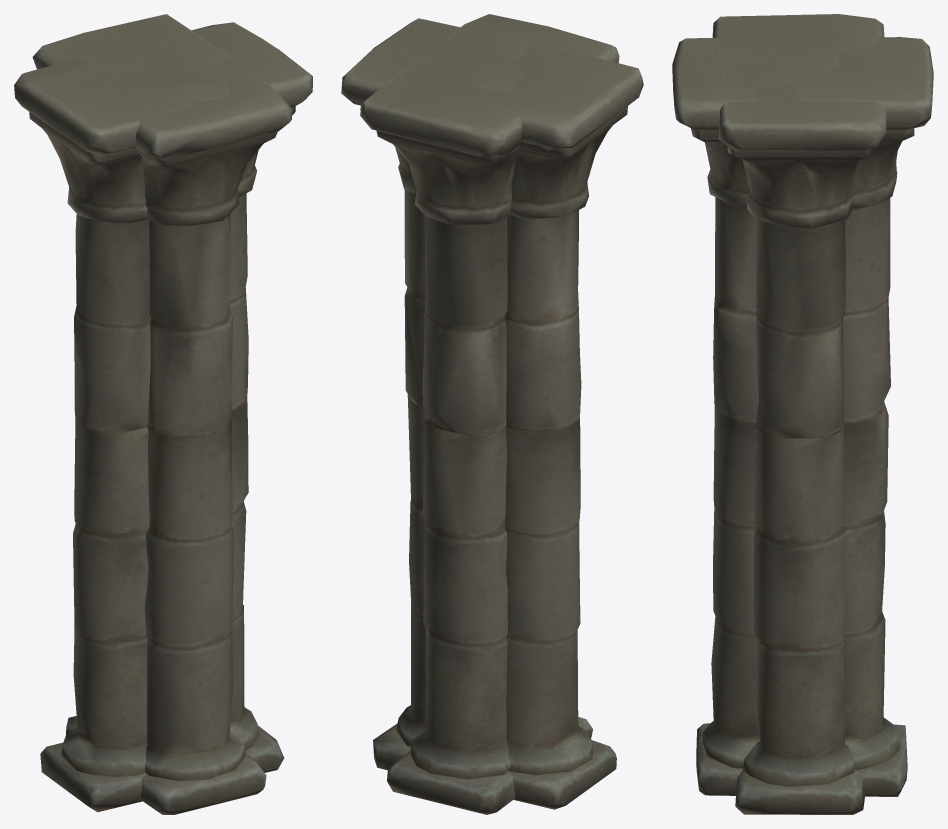
Rendered from SM_FW01_Ruins_Int_Pillar_D_1x6_02.fbx.
3 renders of one model, left to right at view 1: azimuth 30°, elevation 25°; view 2: azimuth 150°, elevation 25°; view 3: azimuth 270°, elevation 25°, orthographic.
Parts seen in each view (by area): view 1: SM_FW01_Ruins_Int_Pillar_D_1x6_02_LOD0; view 2: SM_FW01_Ruins_Int_Pillar_D_1x6_02_LOD0; view 3: SM_FW01_Ruins_Int_Pillar_D_1x6_02_LOD0.
Part boxes in pixels (x1,y1,x2,y2): SM_FW01_Ruins_Int_Pillar_D_1x6_02_LOD0: (14, 14, 312, 814); SM_FW01_Ruins_Int_Pillar_D_1x6_02_LOD0: (341, 14, 643, 814); SM_FW01_Ruins_Int_Pillar_D_1x6_02_LOD0: (672, 14, 933, 814).
Size of what is drawn, in the model's own units: 2.1 by 6.05 by 2.04.
